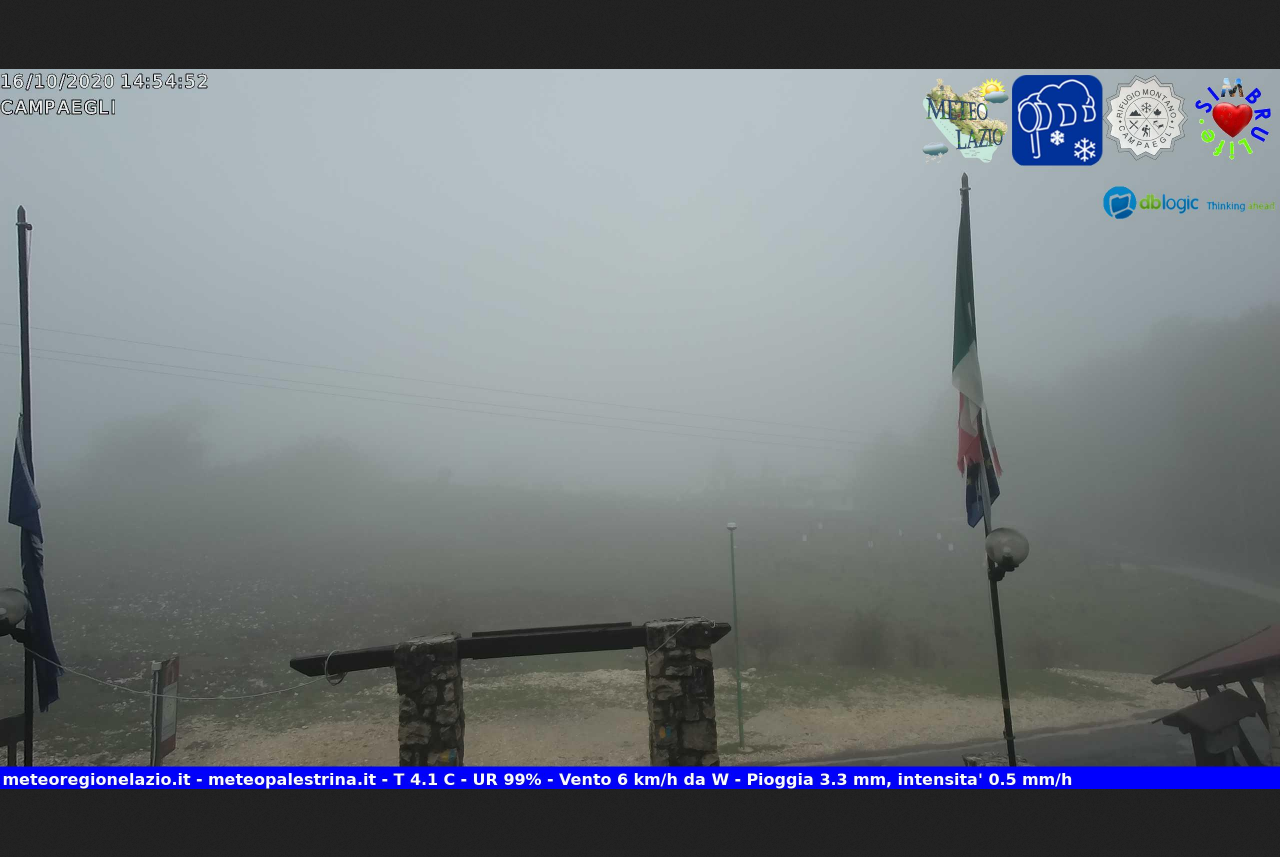no: (1, 416, 63, 713), (947, 180, 1000, 473)
